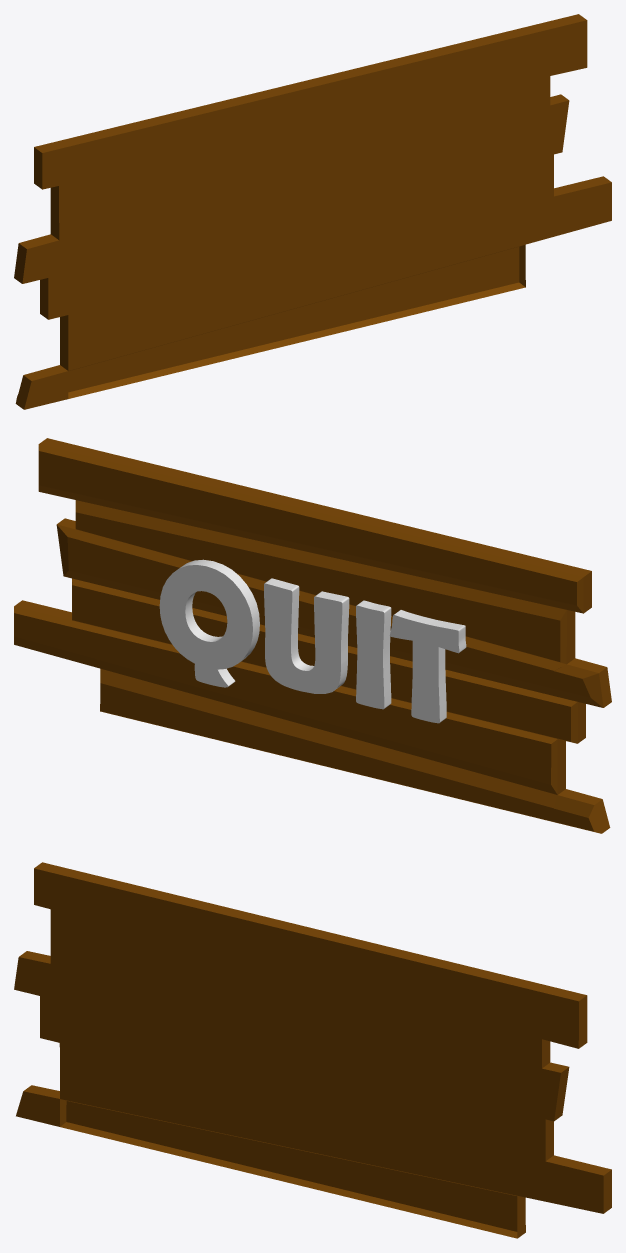
Rendered from quit_button.fbx.
The picture shows the model from 3 angles, top to bottom: view 1: azimuth 30°, elevation 25°; view 2: azimuth 150°, elevation 25°; view 3: azimuth 330°, elevation 25°; orthographic projection.
Parts seen in each view (by area): view 1: pCube6; view 2: pCube6, typeMesh3; view 3: pCube6.
Boxes of the visible parts, x1,y1,x2,y2 form: pCube6: [14, 14, 611, 409]; pCube6: [14, 438, 611, 833]; typeMesh3: [159, 559, 466, 723]; pCube6: [14, 862, 611, 1238].
Size of the model in its own units: 122 by 50 by 6.78.
